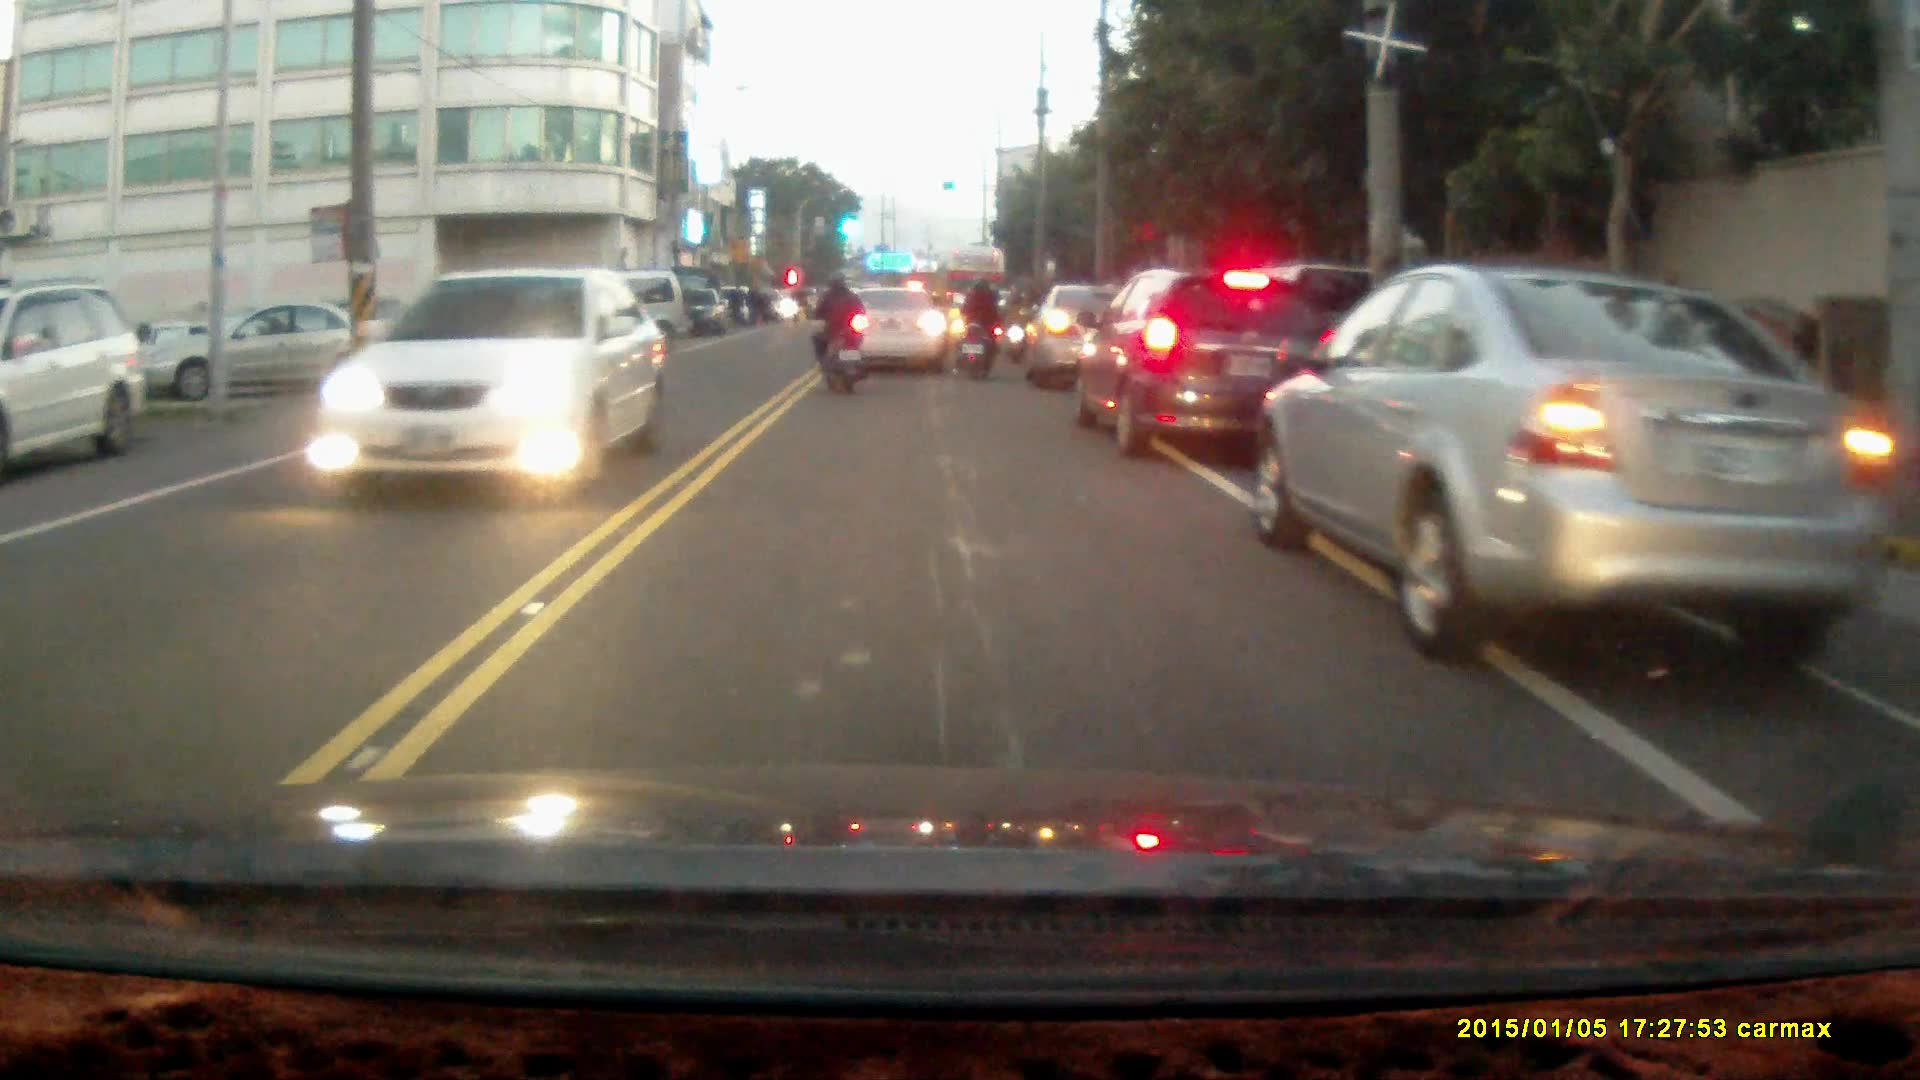rider: (807, 271, 865, 395), (954, 273, 1007, 379)
vehicle: (1261, 263, 1899, 659), (310, 268, 660, 497), (1072, 268, 1344, 463), (1, 282, 145, 475), (140, 299, 396, 401), (1017, 281, 1145, 396), (835, 287, 947, 380), (672, 289, 730, 340)
